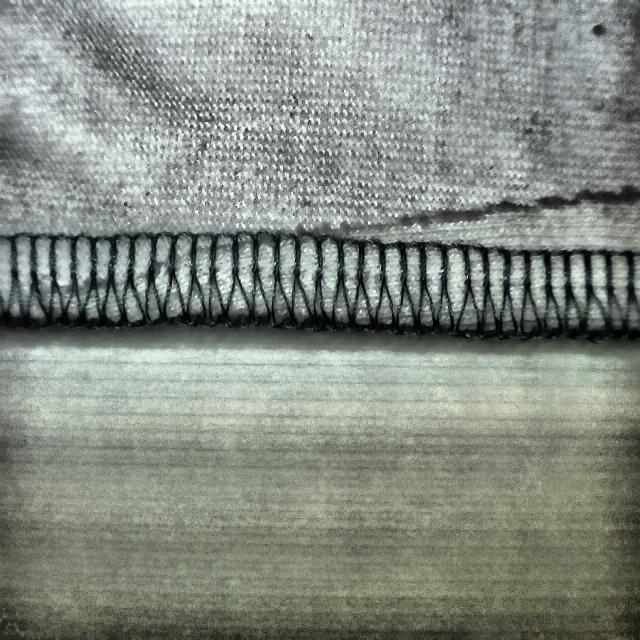gray stitch: (333, 154, 640, 339)
